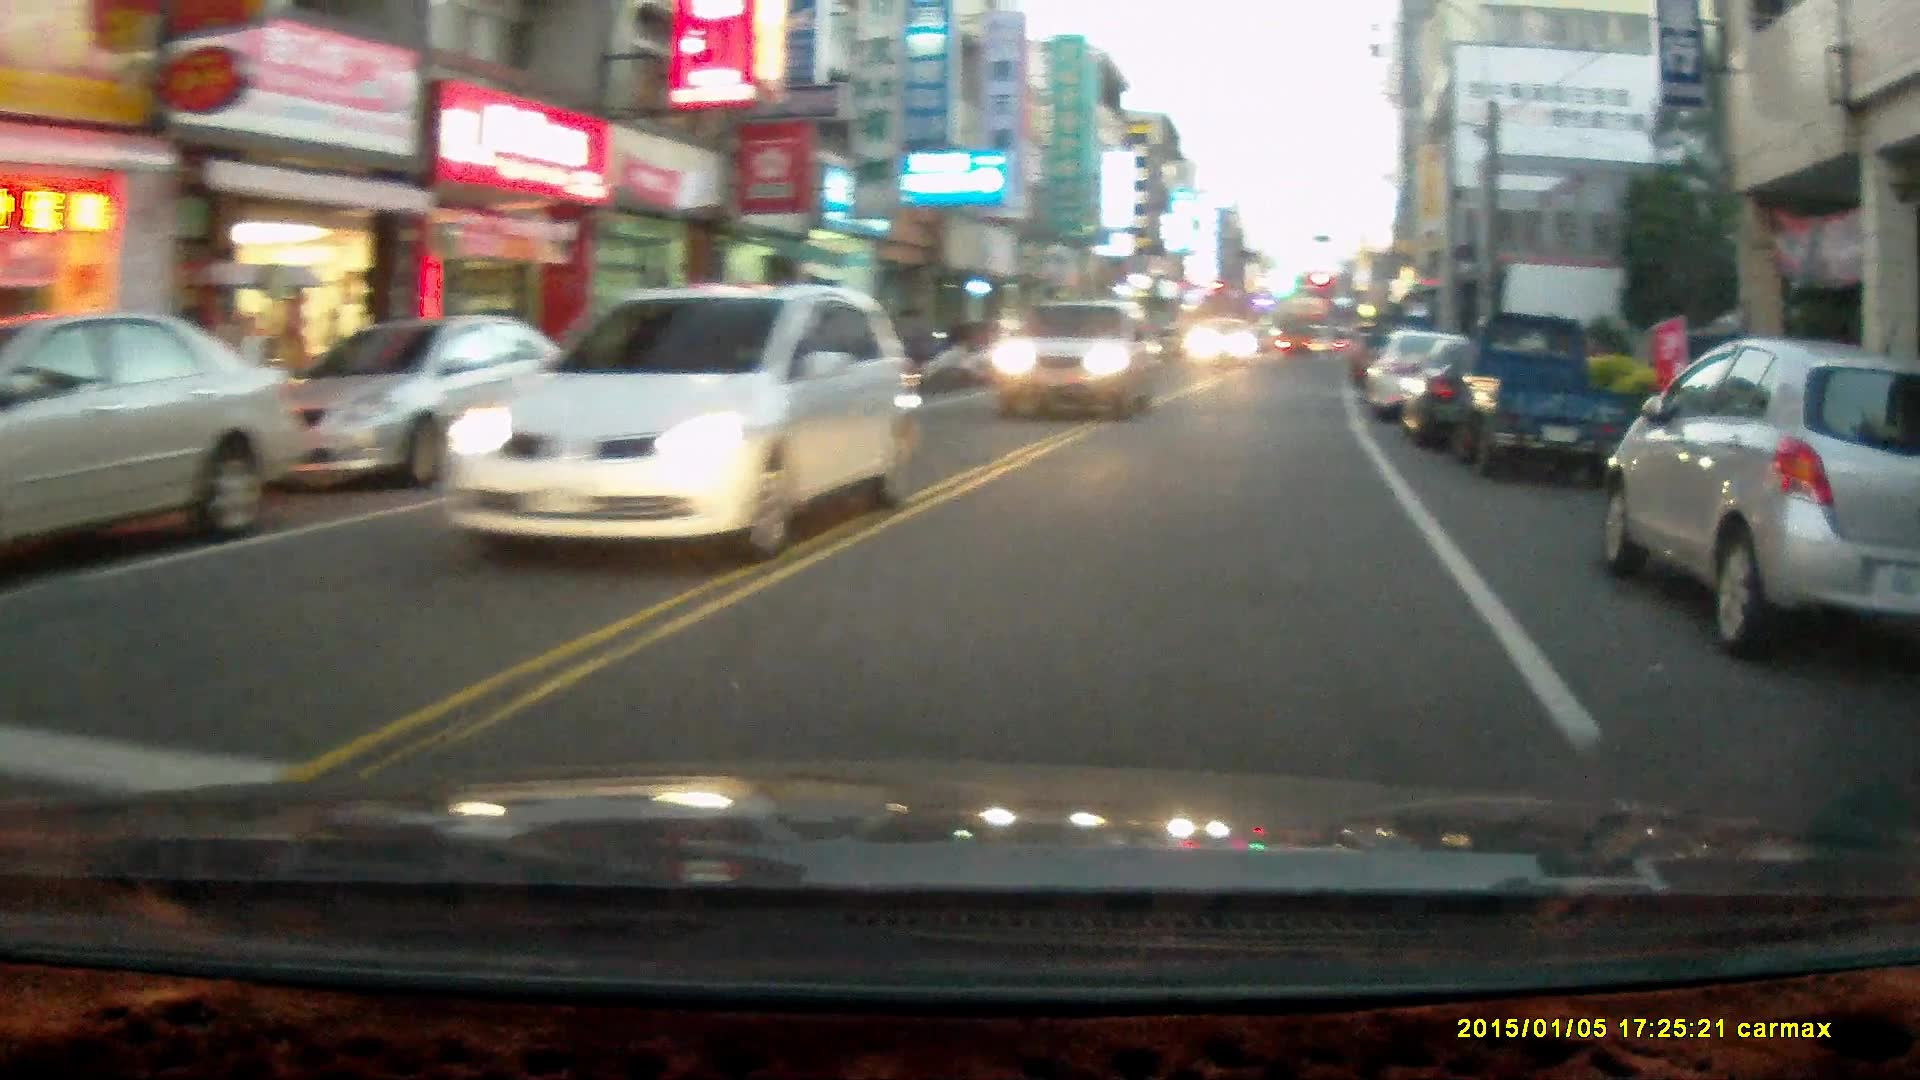vehicle: (435, 281, 920, 562), (1604, 334, 1920, 665), (1, 307, 306, 579), (256, 311, 574, 493), (1451, 310, 1640, 480), (988, 297, 1168, 421), (1364, 322, 1520, 425), (1188, 315, 1265, 368)
